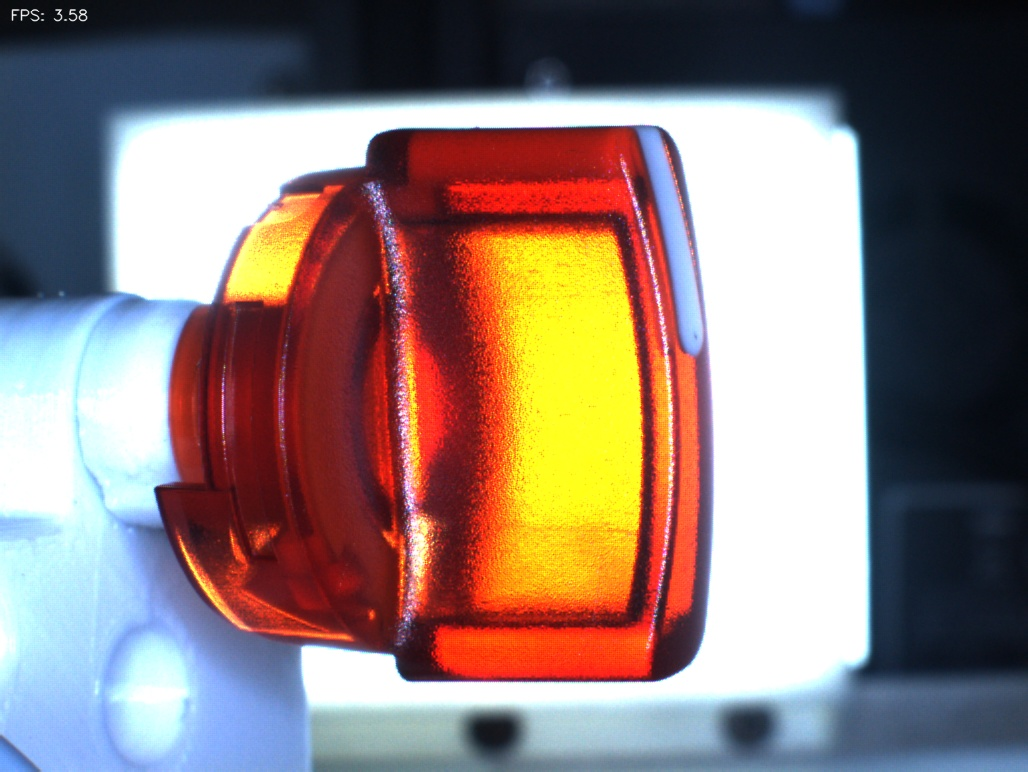PointNoir: (673, 293, 742, 375)
